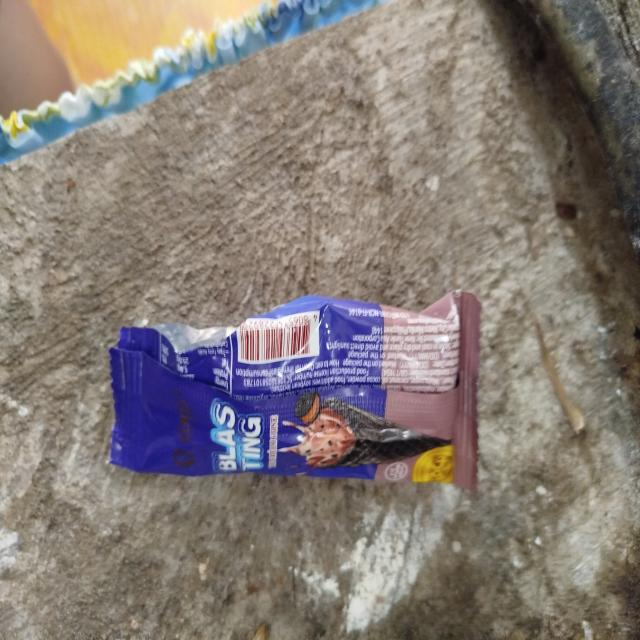residual: (84, 266, 494, 511)
